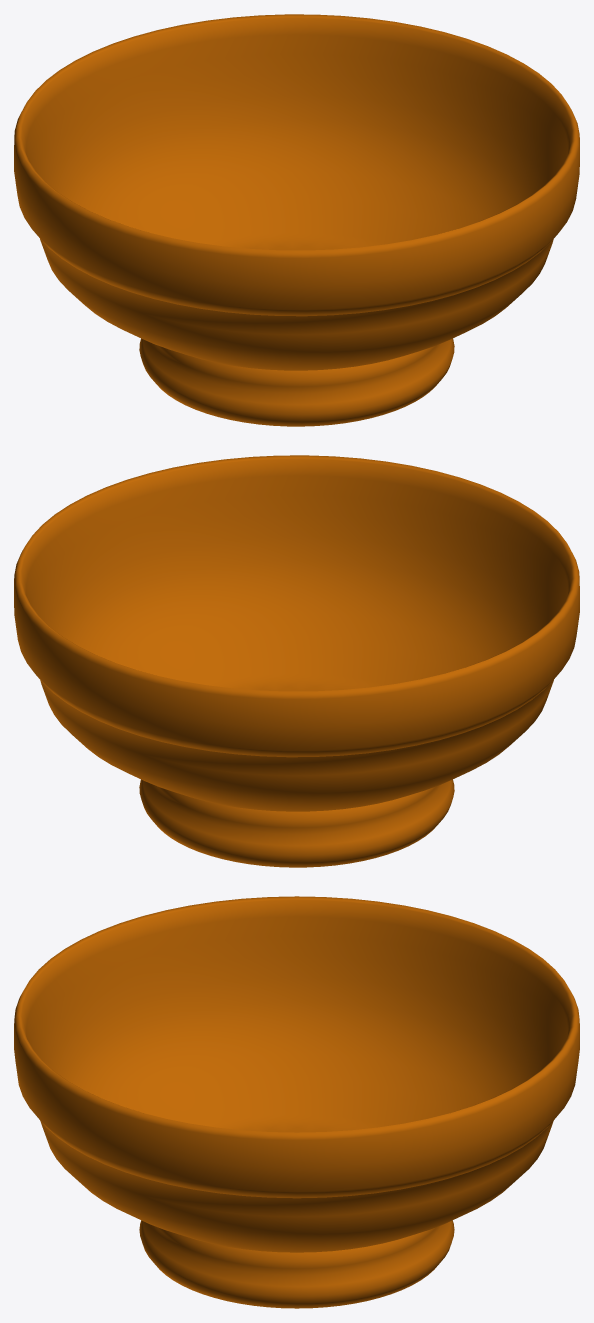
The model's file is Bowl.obj.
3 views of the same model, one above another, from view 1: azimuth 30°, elevation 25°; view 2: azimuth 150°, elevation 25°; view 3: azimuth 270°, elevation 25° (orthographic).
Parts seen in each view (by area): view 1: Cylinder, Cylinder.001; view 2: Cylinder, Cylinder.001; view 3: Cylinder, Cylinder.001.
Part boxes in pixels (left/top/right/bottom): Cylinder: left=14, top=14, right=579, bottom=370; Cylinder.001: left=139, top=338, right=454, bottom=426; Cylinder: left=14, top=455, right=579, bottom=811; Cylinder.001: left=139, top=779, right=454, bottom=867; Cylinder: left=14, top=896, right=579, bottom=1252; Cylinder.001: left=139, top=1220, right=454, bottom=1308.
Bounding box in the file's own units: 1.24 × 0.5595 × 1.24.
